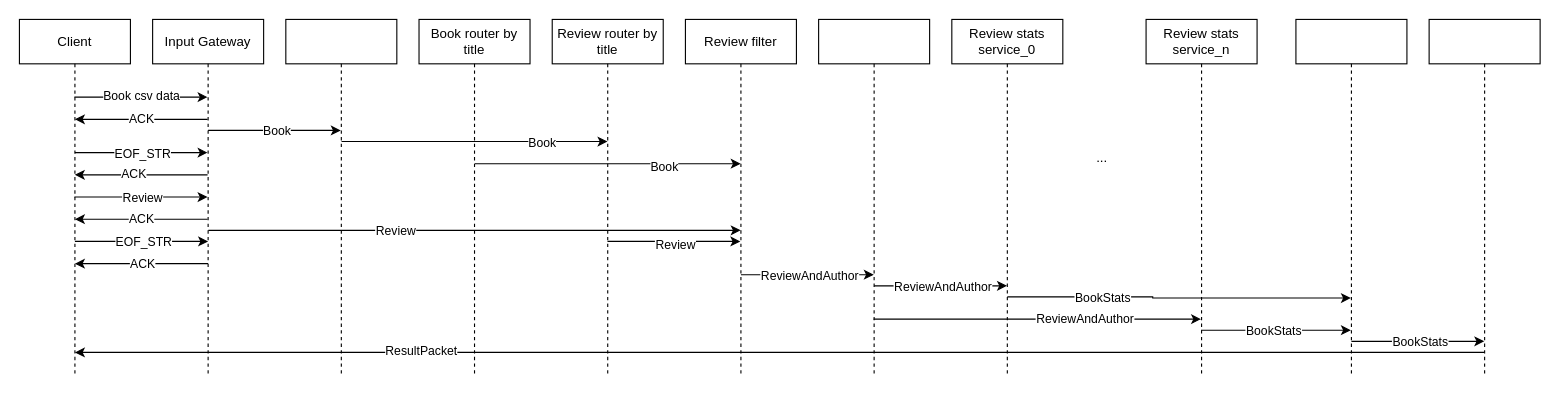
Some shapes in this 1560 by 394 pixel diagram are drawn without their labels. The shapes that lost their labels are listed below. From the top down, each one's box as (x1, y1, x2, y2) in pixels, then its label:
(285, 18, 397, 375): Book years filter
(818, 18, 930, 375): 1990-1999 Review router
(1295, 18, 1407, 375): Review mean rating aggregator
(1428, 18, 1540, 375): Output Gateway
